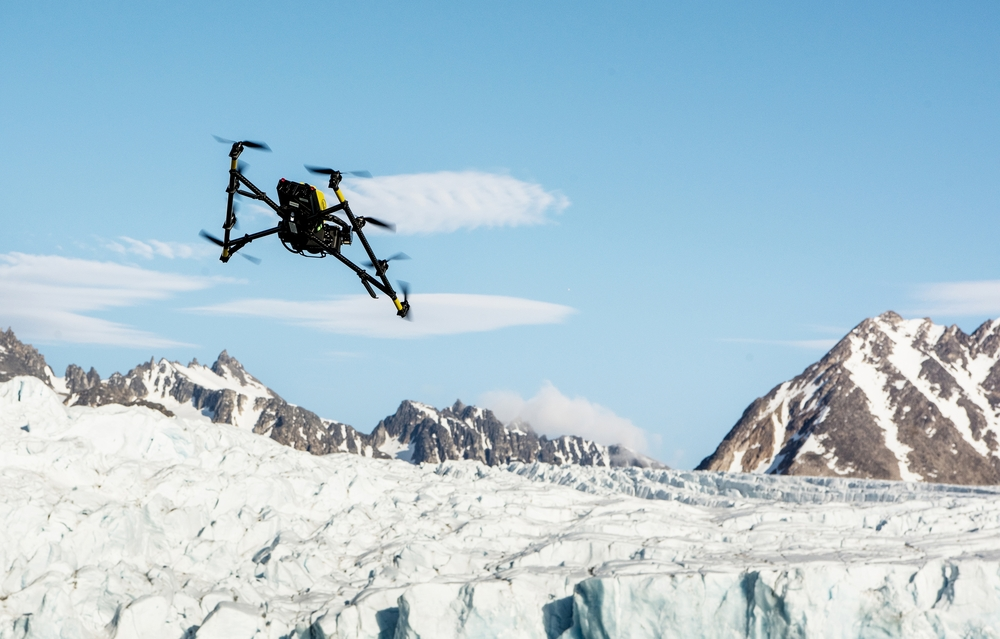drone: (198, 135, 418, 324)
